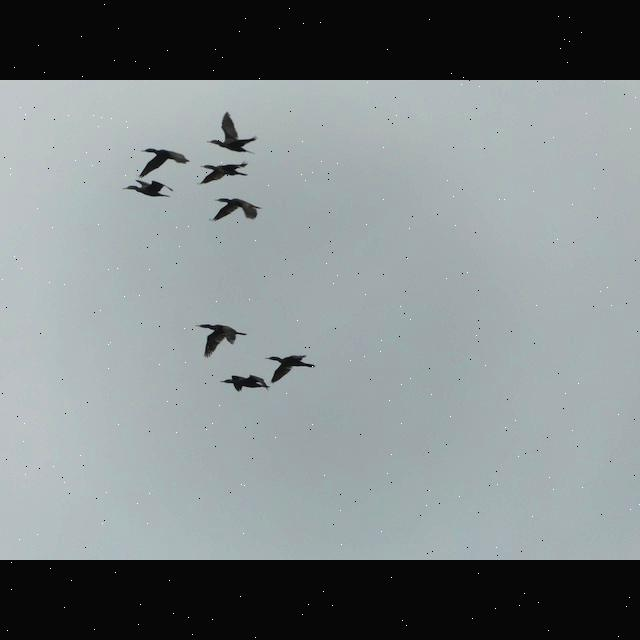cormorant: (206, 108, 256, 160), (190, 318, 248, 358), (129, 142, 187, 180), (204, 197, 262, 230), (266, 349, 312, 385), (198, 158, 248, 190), (122, 178, 174, 204), (219, 370, 265, 396)
